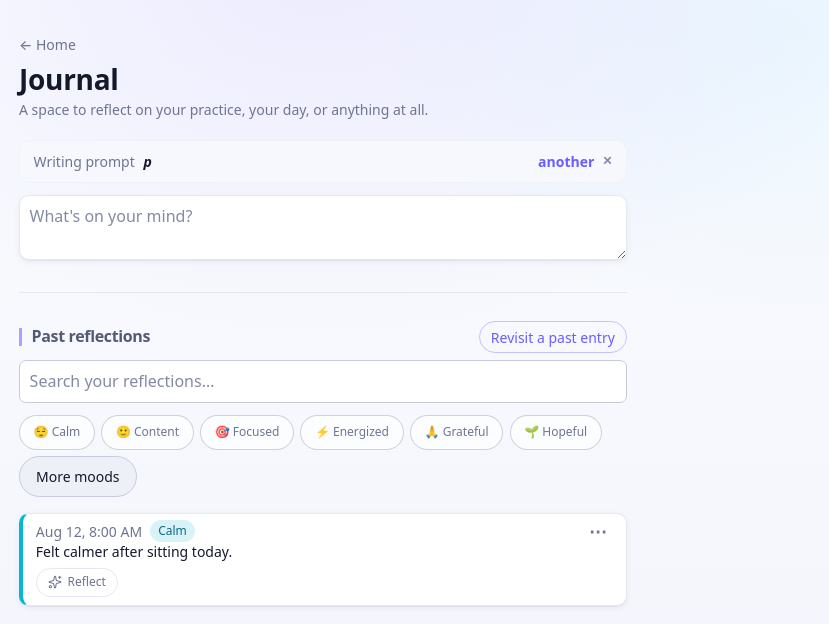
JournalPage — AI reflection › shows a friendly note and disables Reflect when the daily cap is hit (429)
This screenshot has width=829, height=624.
Click the button with aria-label "get a gentle reflection on this entry" at (77, 582), box [36, 568, 118, 597]
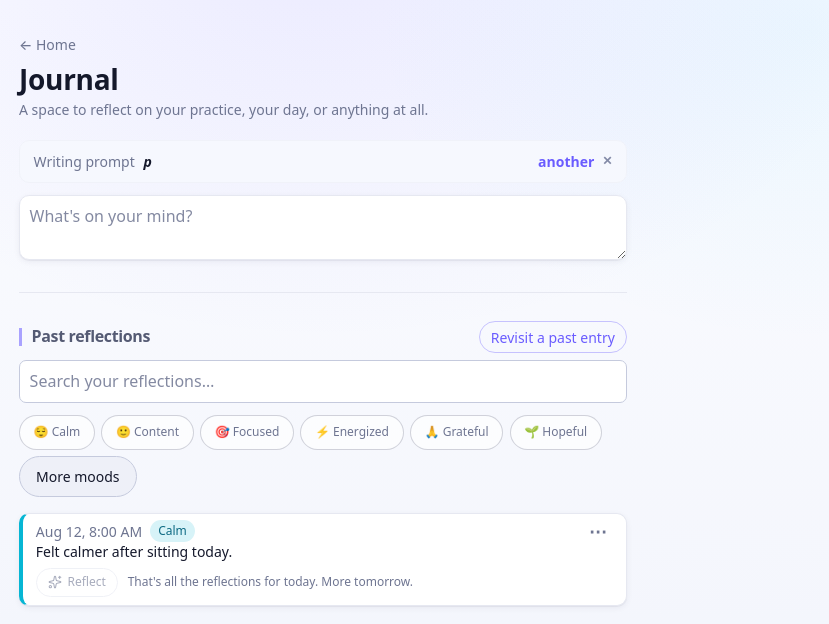
expect the text "That's all the reflections for today. More tomorrow." is shown: met, box [128, 573, 413, 591]
expect the button with aria-label "get a gentle reflection on this entry" is disabled: met, box [36, 568, 118, 597]
